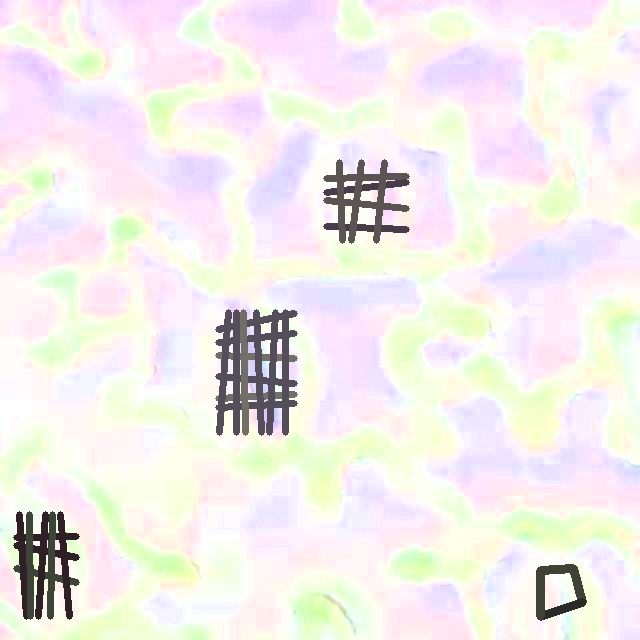open: (215, 309, 297, 435), (13, 512, 79, 618), (324, 160, 408, 243), (537, 564, 586, 620)
